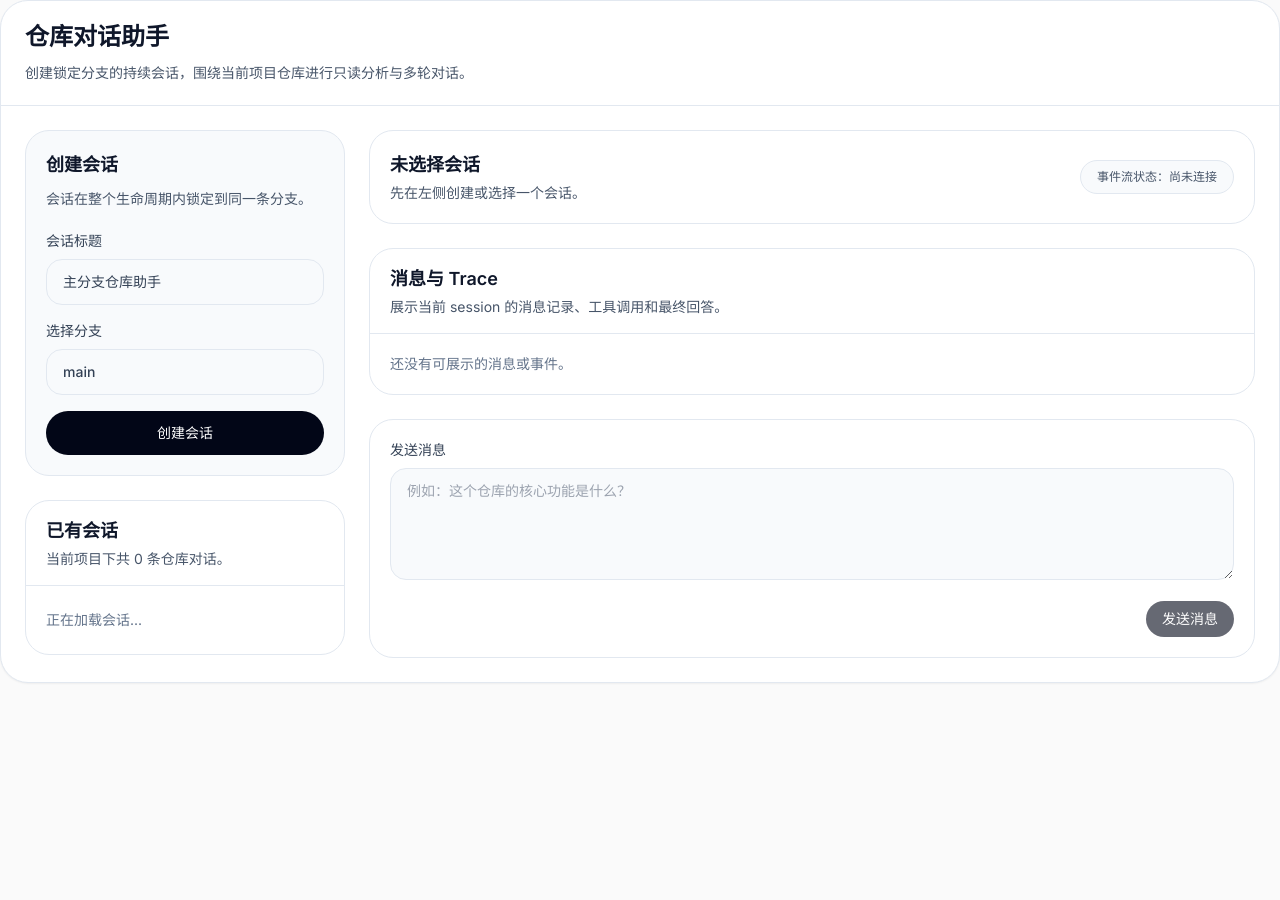
Scenario: sends message and renders streamed final answer
Type "这个仓库是做什么的？" into the text box labelled "发送消息" at (812, 524), box [390,468,1234,580]
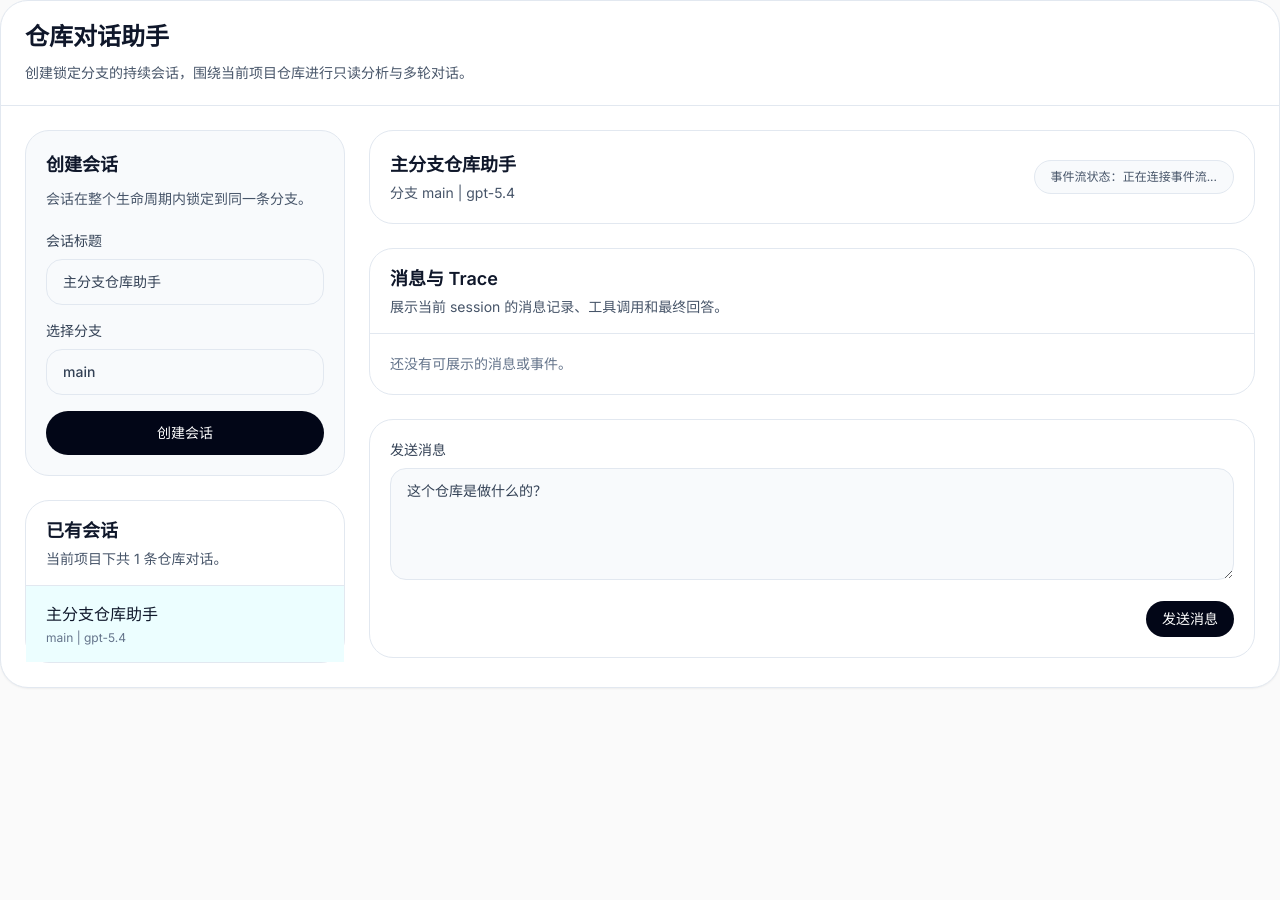
Click the button "发送消息" at (1190, 619), box [1146,601,1234,637]
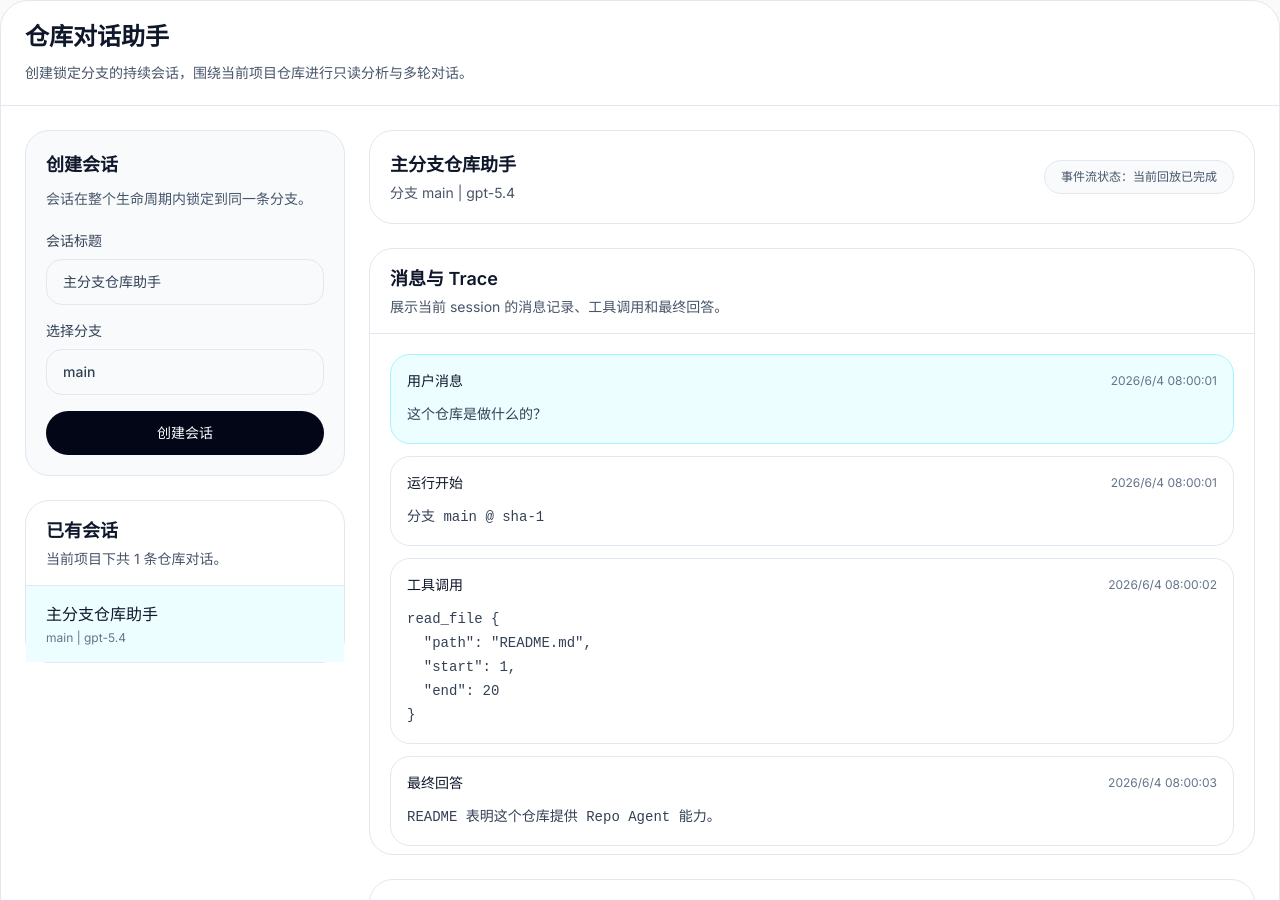
Result: the text "最终回答" is shown at [407,773,463,793]
Result: the text "README 表明这个仓库提供 Repo Agent 能力。" is shown at [407,809,721,825]
